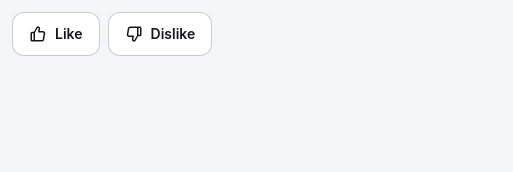
Scenario: VoteButtons (US-8) › rolls back and explains when the server refuses
Click the button "Like" at [56, 34], box [12,12,100,56]
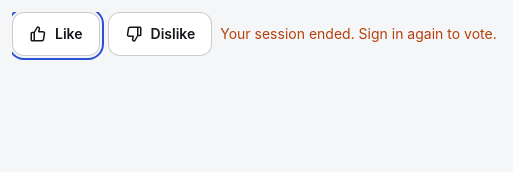
Expected: the message shows "Sign in again", [220,25,497,42]
